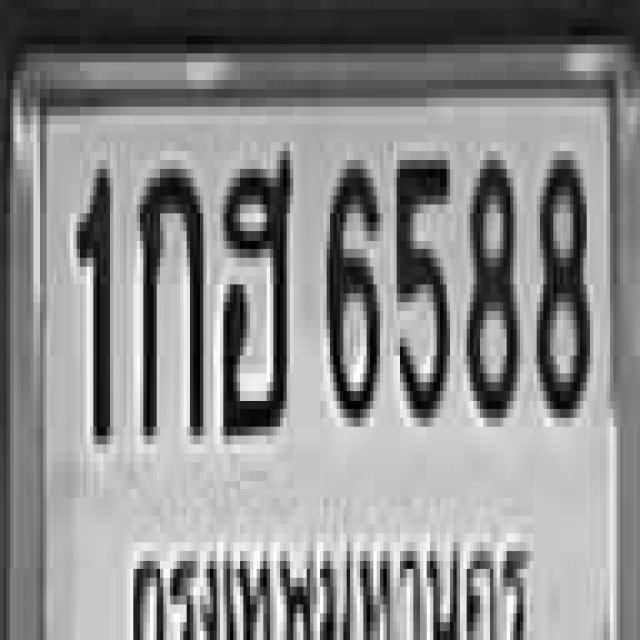1: (73, 160, 107, 436)
10GorGai: (137, 160, 200, 436)
5: (393, 151, 447, 418)
53HorNokHook: (220, 147, 290, 431)
6: (323, 151, 377, 418)
8: (533, 142, 587, 409), (463, 151, 517, 409)
Bangkok: (123, 524, 540, 640)
